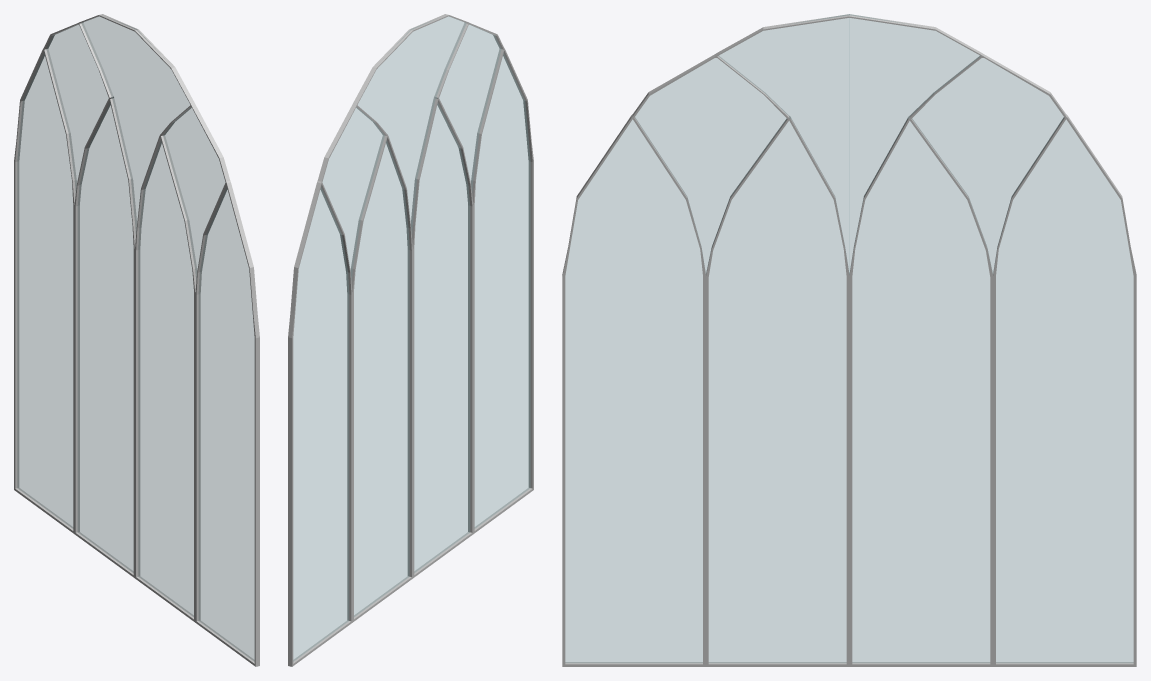
The model's file is window.fbx.
3 views of the same model, side by side, from view 1: azimuth 30°, elevation 25°; view 2: azimuth 150°, elevation 25°; view 3: azimuth 270°, elevation 25° (orthographic). The views are drawn at different scales.
Parts seen in each view (by area): view 1: Window.024; view 2: Window.024; view 3: Window.024.
Part boxes in pixels (left/top/right/bottom): Window.024: left=14, top=14, right=259, bottom=666; Window.024: left=288, top=14, right=533, bottom=666; Window.024: left=562, top=14, right=1136, bottom=666.
Size of the model in its own units: 4 by 501 by 400.
